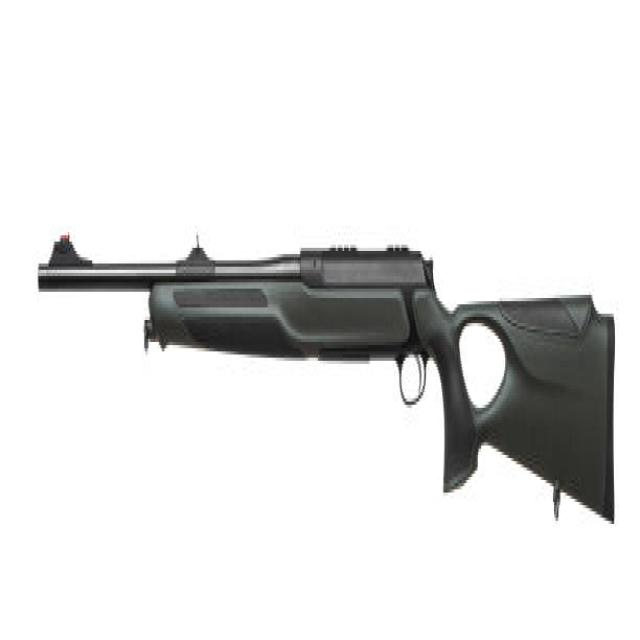rifle: (35, 215, 623, 544)
